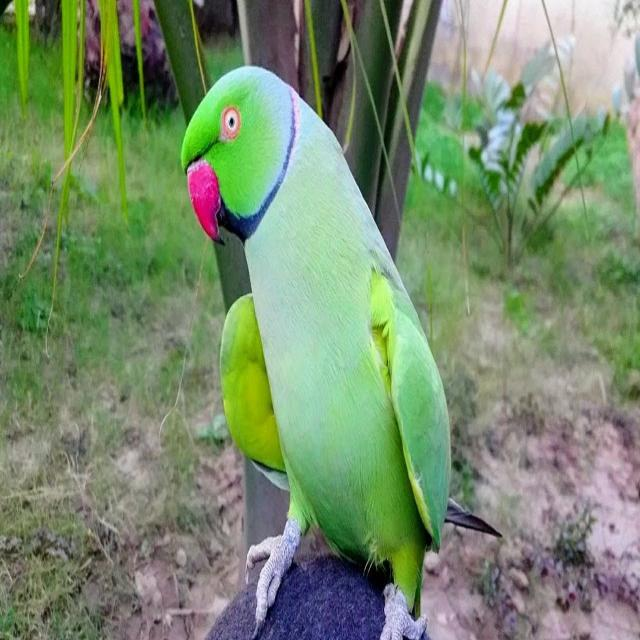bird: (180, 57, 452, 640)
